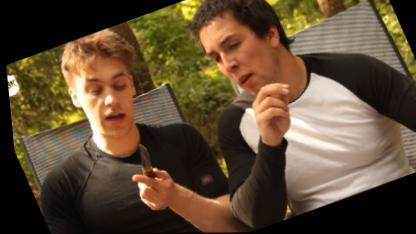knife: (112, 136, 174, 210)
